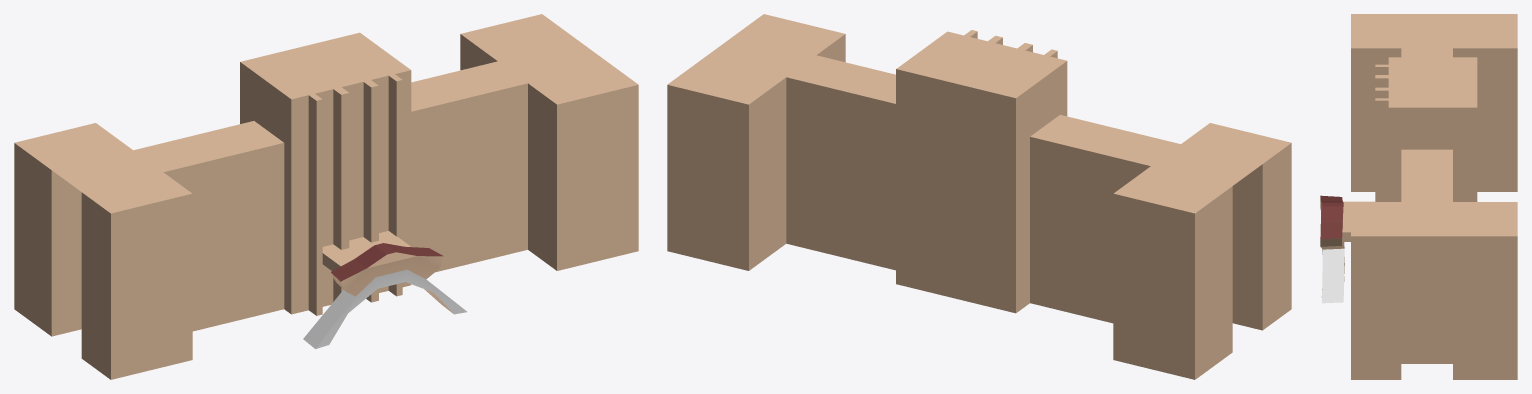
File: Main.fbx
3 views of the same model, side by side, from view 1: azimuth 30°, elevation 25°; view 2: azimuth 150°, elevation 25°; view 3: azimuth 270°, elevation 25° (orthographic). The views are drawn at different scales.
Visible parts, largest first — view 1: pCube3; view 2: pCube3; view 3: pCube3.
Part boxes in pixels (x1,y1,x2,y2): pCube3: (14, 14, 638, 379); pCube3: (667, 14, 1291, 379); pCube3: (1320, 14, 1517, 379).
Bounding box in the file's own units: 14.48 × 5.71 × 5.44.
